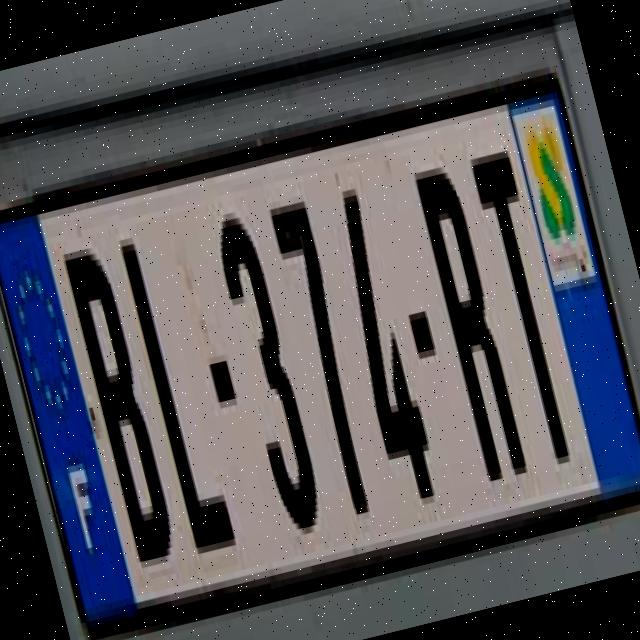EU: (0, 56, 640, 640)
France: (0, 211, 138, 629)
